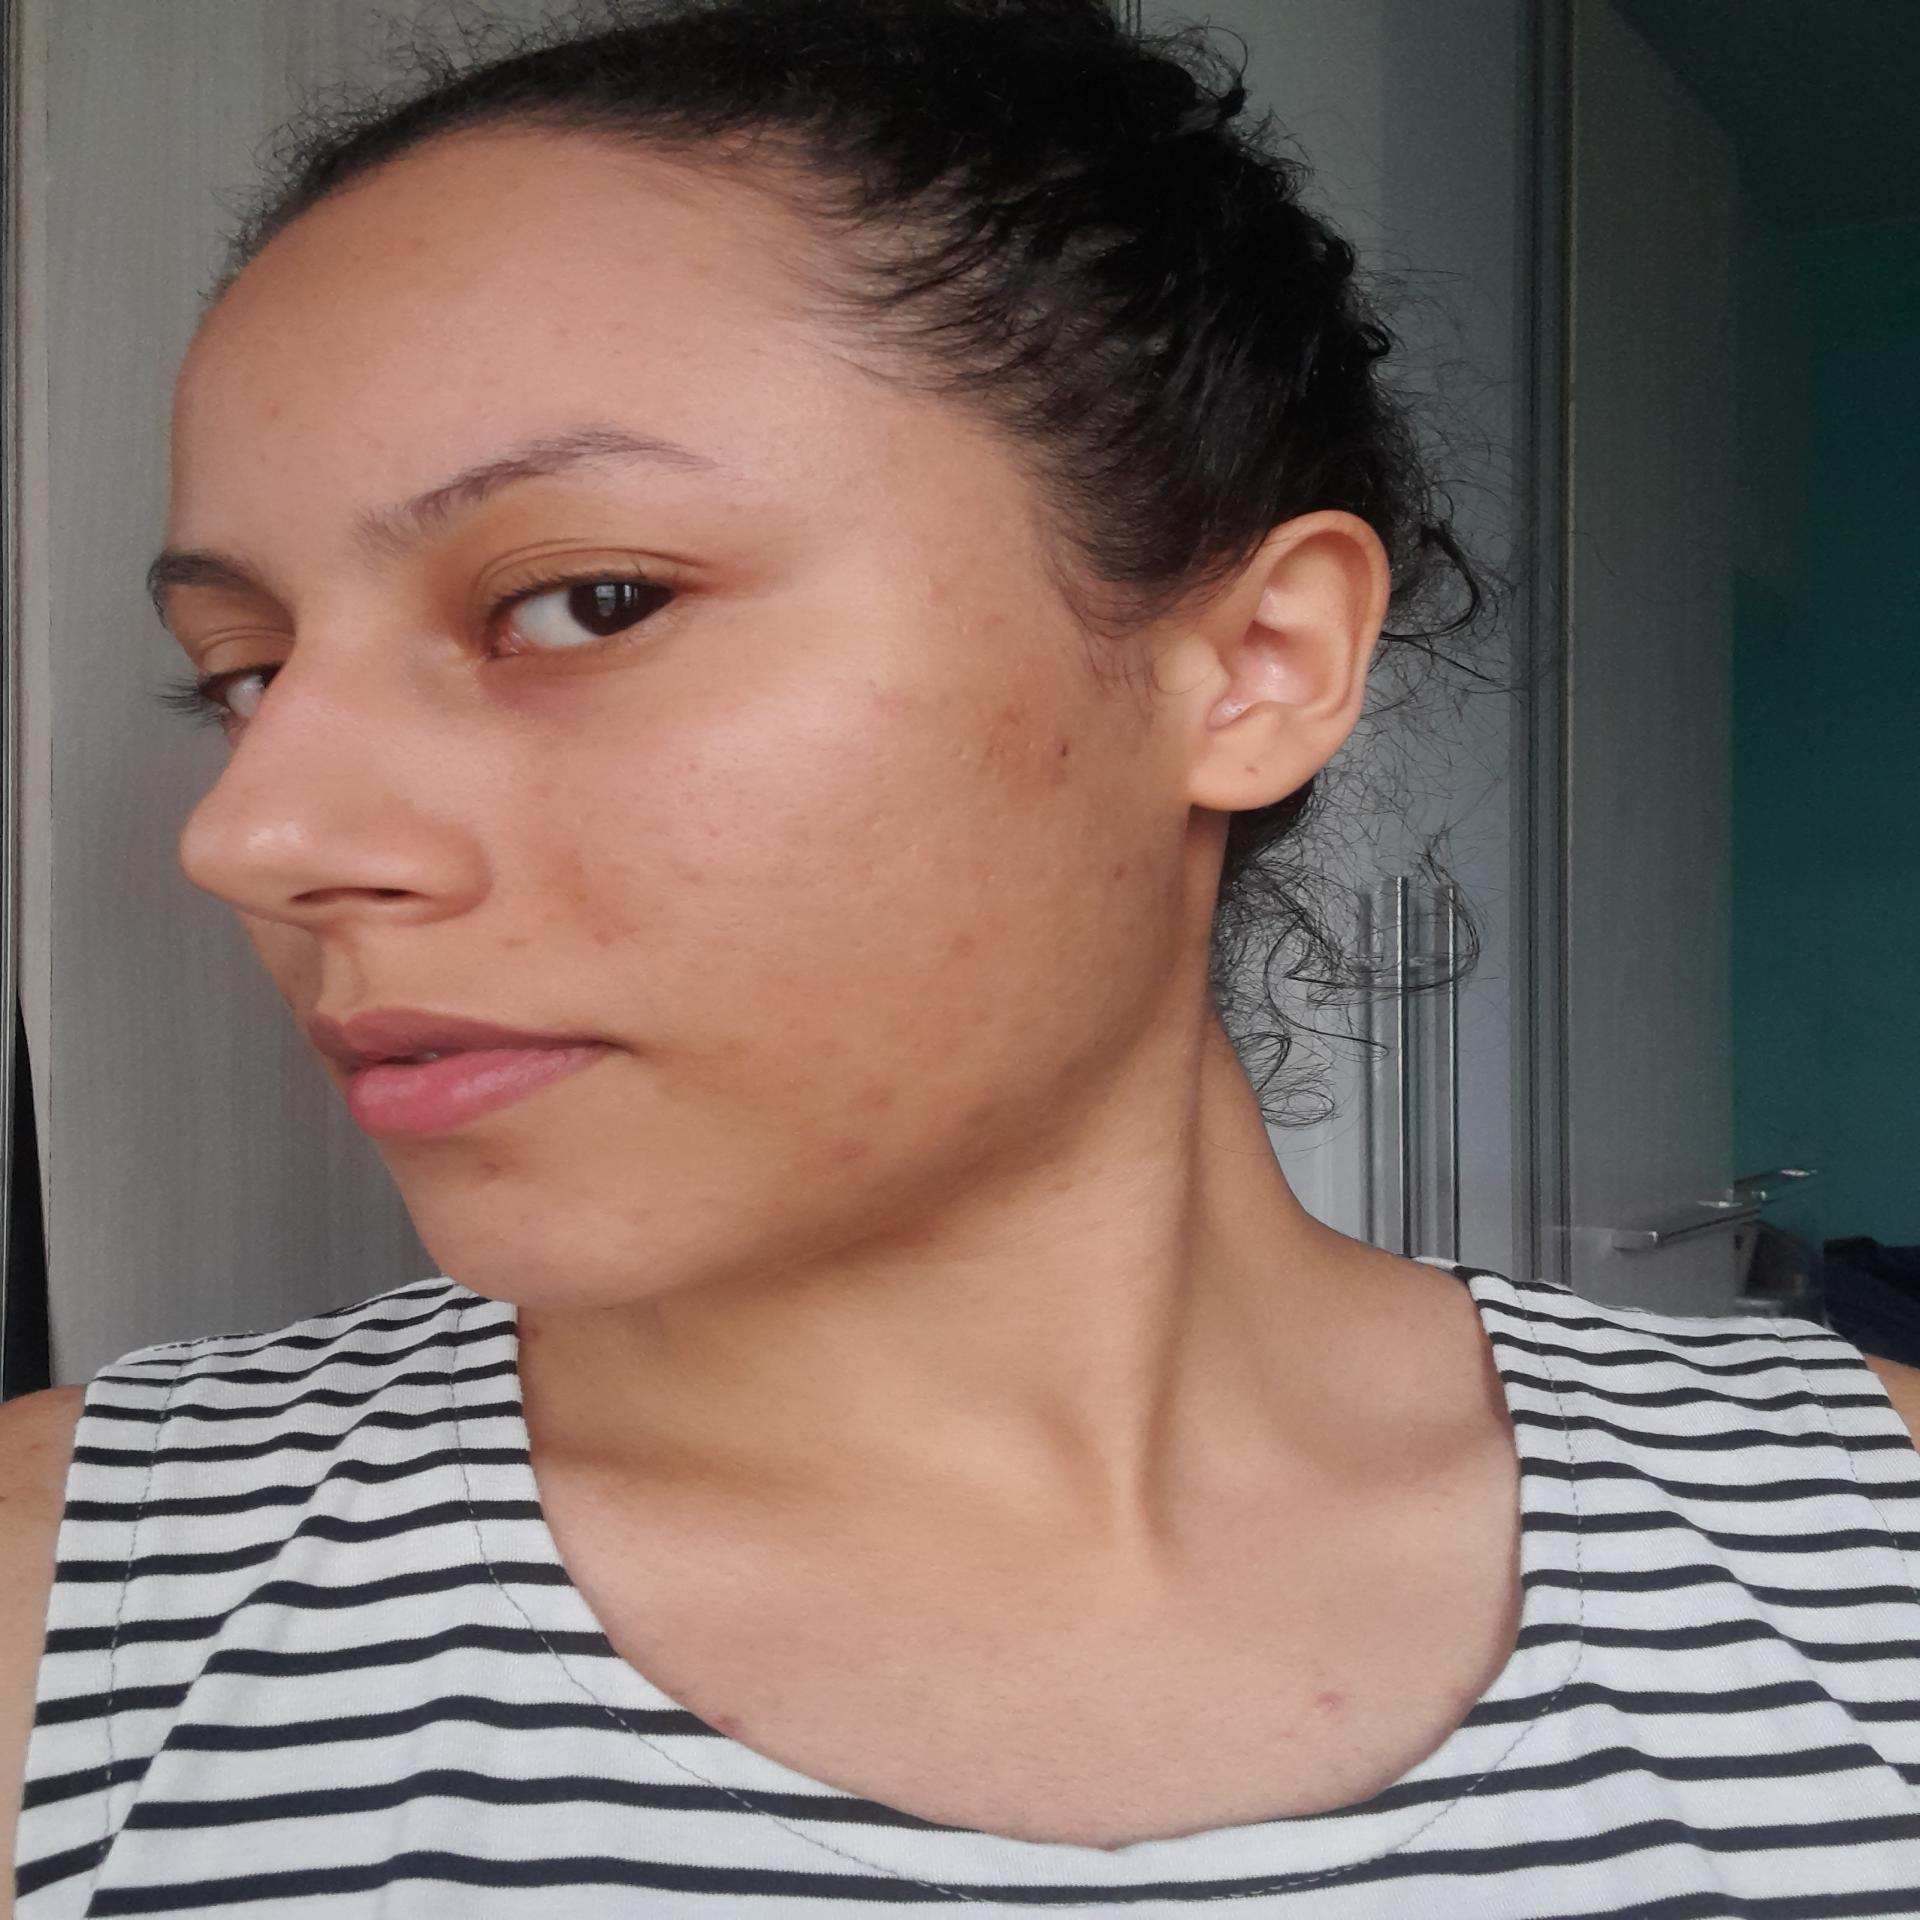Acne: (621, 1201, 675, 1231), (967, 1095, 1011, 1131), (670, 260, 738, 281), (404, 232, 441, 264), (1050, 731, 1083, 765), (995, 702, 1034, 730), (944, 925, 979, 955), (863, 1087, 900, 1113), (839, 1141, 884, 1162), (1102, 860, 1139, 884), (471, 1160, 510, 1180), (983, 601, 1018, 622), (596, 928, 624, 955), (496, 939, 536, 953), (265, 403, 288, 427), (556, 325, 584, 338)
Blackhead: (206, 818, 315, 858)
Englarged Pores: (677, 756, 816, 846), (695, 893, 767, 948)
